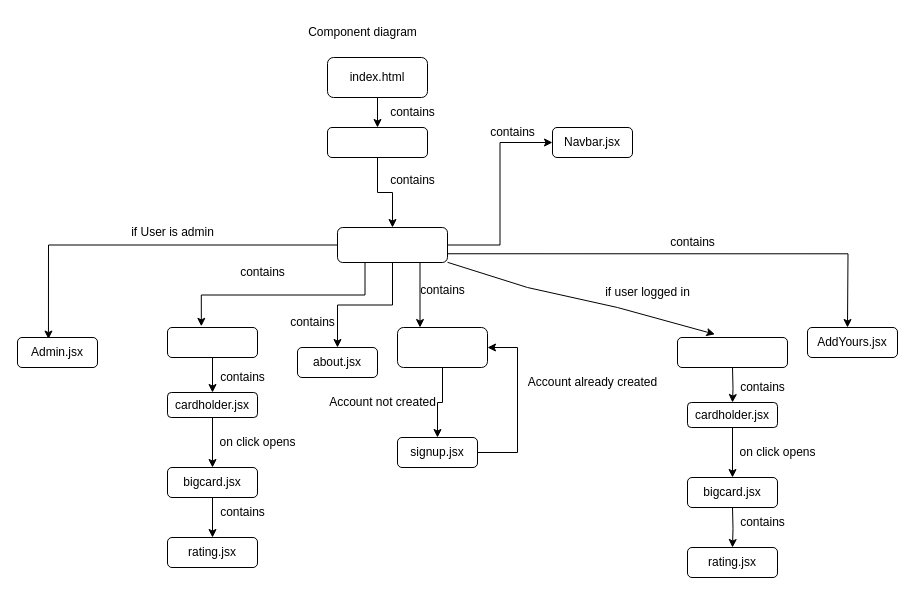
Some shapes in this 915 by 595 pixel diagram are drawn without their labels. The box of each missing label's shape, as (x1, y1, x2, y2) in pixels:
App.jsx: (336, 226, 448, 262)
home.jsx: (166, 326, 258, 358)
index.jsx: (326, 126, 428, 158)
login.jsx: (396, 326, 488, 368)
YourSuggestion.jsx: (676, 336, 788, 368)
